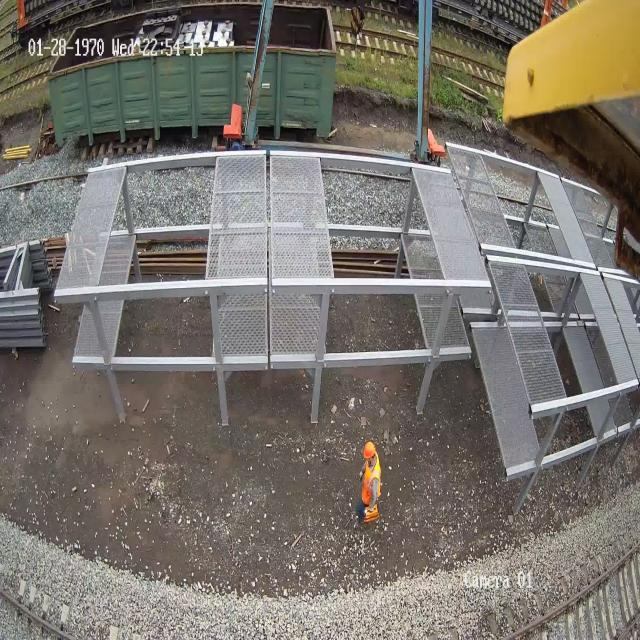Helmet: (363, 441, 376, 459)
Person: (356, 440, 381, 521)
